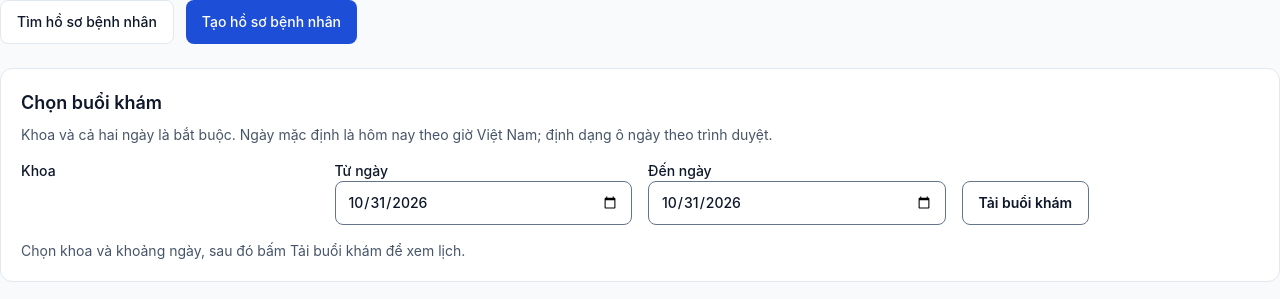
Scenario: reception session registration › distinguishes a search not yet run from an empty result
This screenshot has width=1280, height=299.
Check: the text "Chưa có buổi khám trong bộ lọc." is not shown
Check: the text "Chọn khoa và khoảng ngày, sau đó bấm Tải buổi khám để xem lịch." is shown, box [21,242,465,259]
Type "department-id" into the field labelled "Khoa". click: (165, 171)
box: [56,161,275,181]
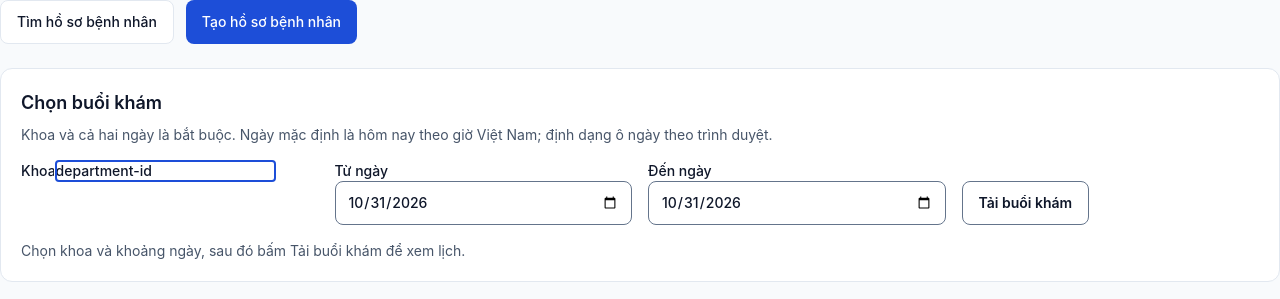
Click the button "Tải buổi khám". click: (1025, 203)
box: [962,181,1089,225]
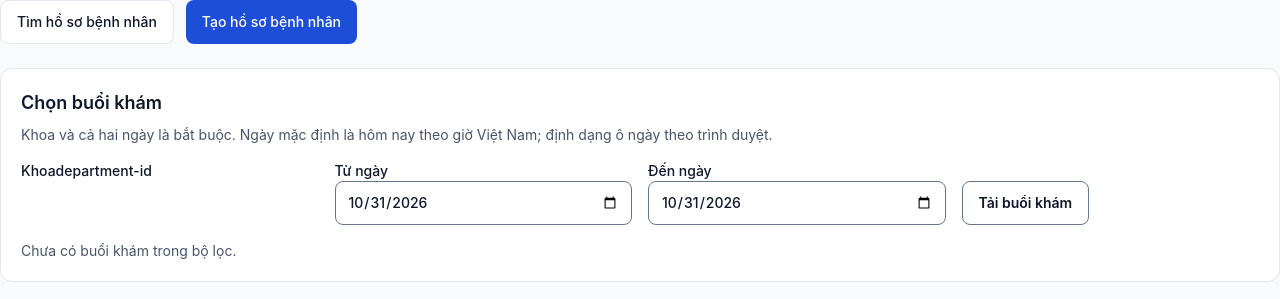
Check: the text "Chưa có buổi khám trong bộ lọc." is shown, box [21,242,236,259]
